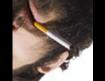Cigarette: (34, 21, 70, 49)
